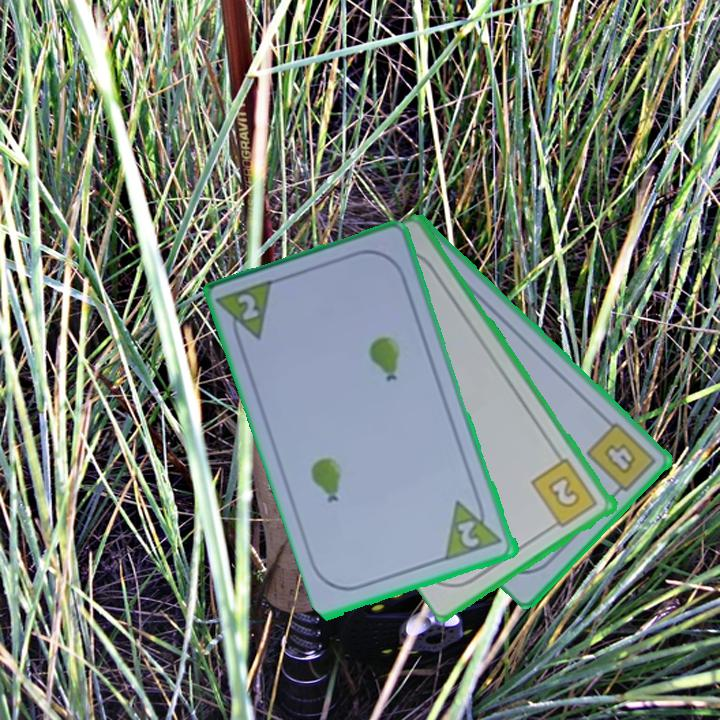2b: (528, 455, 601, 533)
2p: (454, 517, 483, 551), (234, 290, 263, 324)
4b: (582, 418, 659, 501)
